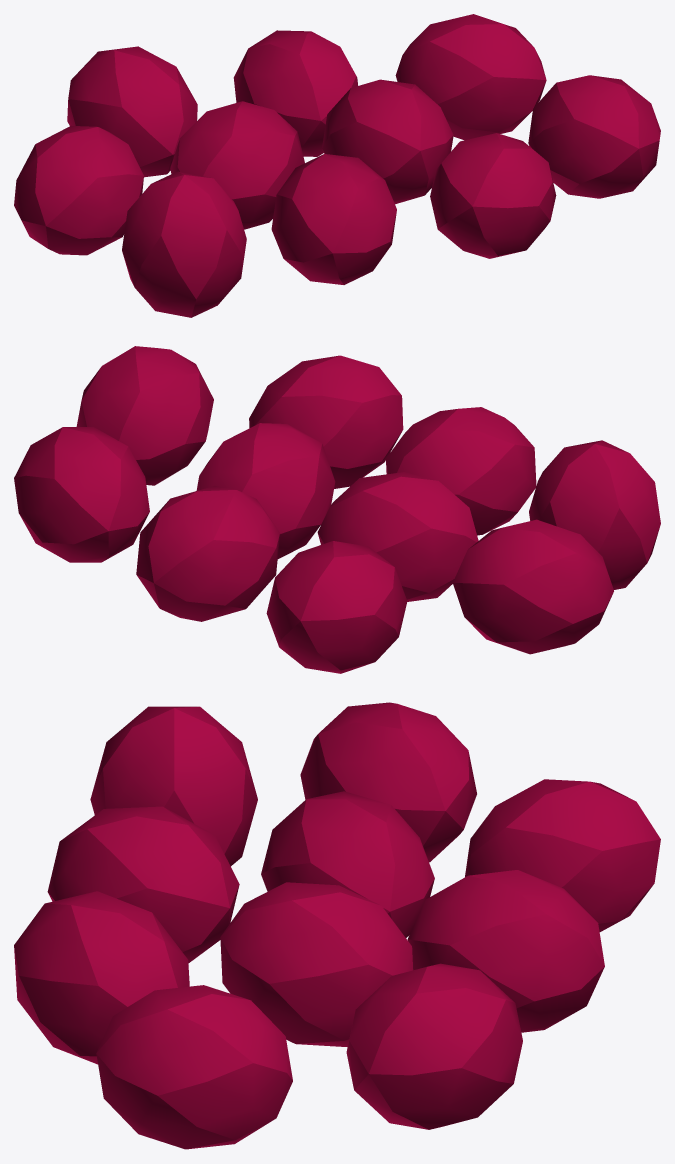
The model's file is UvaRoja.fbx.
The picture shows the model from 3 angles, top to bottom: view 1: azimuth 30°, elevation 25°; view 2: azimuth 150°, elevation 25°; view 3: azimuth 270°, elevation 25°; orthographic projection. The views are drawn at different scales.
Visible parts, largest first — view 1: UvaRojaC; view 2: UvaRojaC; view 3: UvaRojaC.
Part boxes in pixels (x1,y1,x2,y2): UvaRojaC: (14, 14, 660, 317); UvaRojaC: (14, 346, 660, 673); UvaRojaC: (14, 702, 660, 1149).
Bounding box in the file's own units: 13.34 × 3.19 × 10.23.
